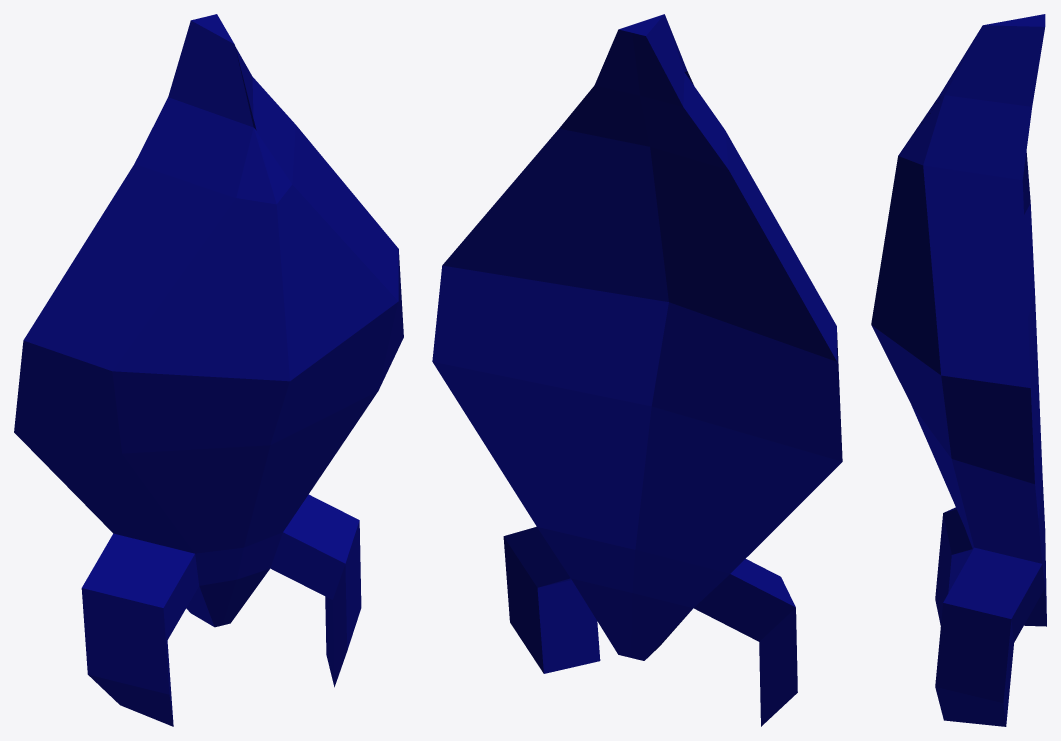
Rendered from enemy_small.fbx.
3 renders of one model, left to right at view 1: azimuth 30°, elevation 25°; view 2: azimuth 150°, elevation 25°; view 3: azimuth 270°, elevation 25°, orthographic. The views are drawn at different scales.
Parts seen in each view (by area): view 1: enemy_small; view 2: enemy_small; view 3: enemy_small.
Part boxes in pixels (box(x1,y1,x2,y2)): enemy_small: box(14, 14, 403, 726); enemy_small: box(432, 14, 842, 726); enemy_small: box(871, 14, 1046, 726).
Size of the model in its own units: 390 by 624 by 151.
